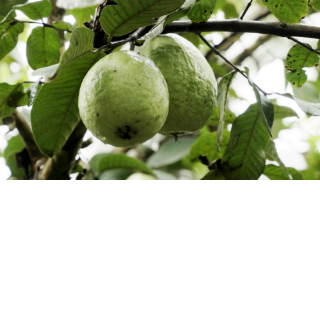oi: (75, 46, 169, 148), (137, 29, 219, 143)
